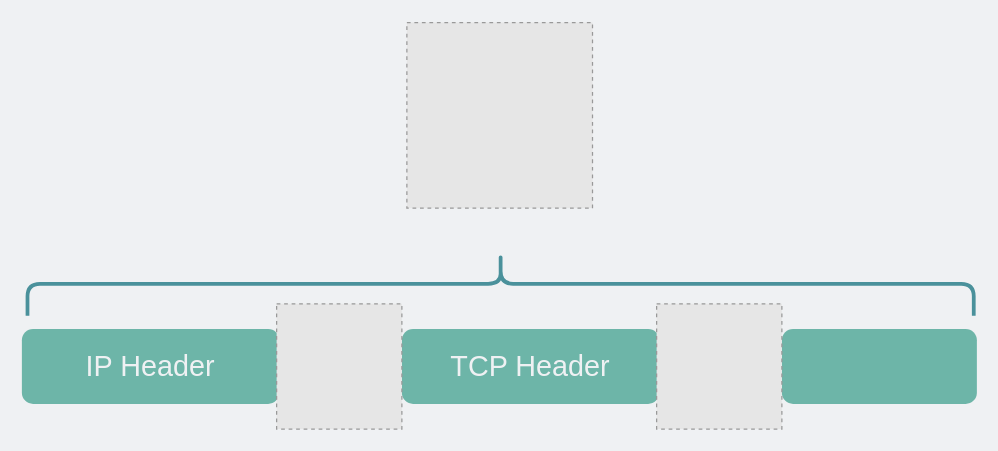
The diagram is 998 pixels wide and 451 high, and some of its shapes have lost their labels. Grey dashed boxes stand in for pictures. The shapes that lost their labels are listed below. From the top down, each one's centre as x and y in pixels, then its label:
At [500,283]: "数据包".
At [878,365]: "数据".
